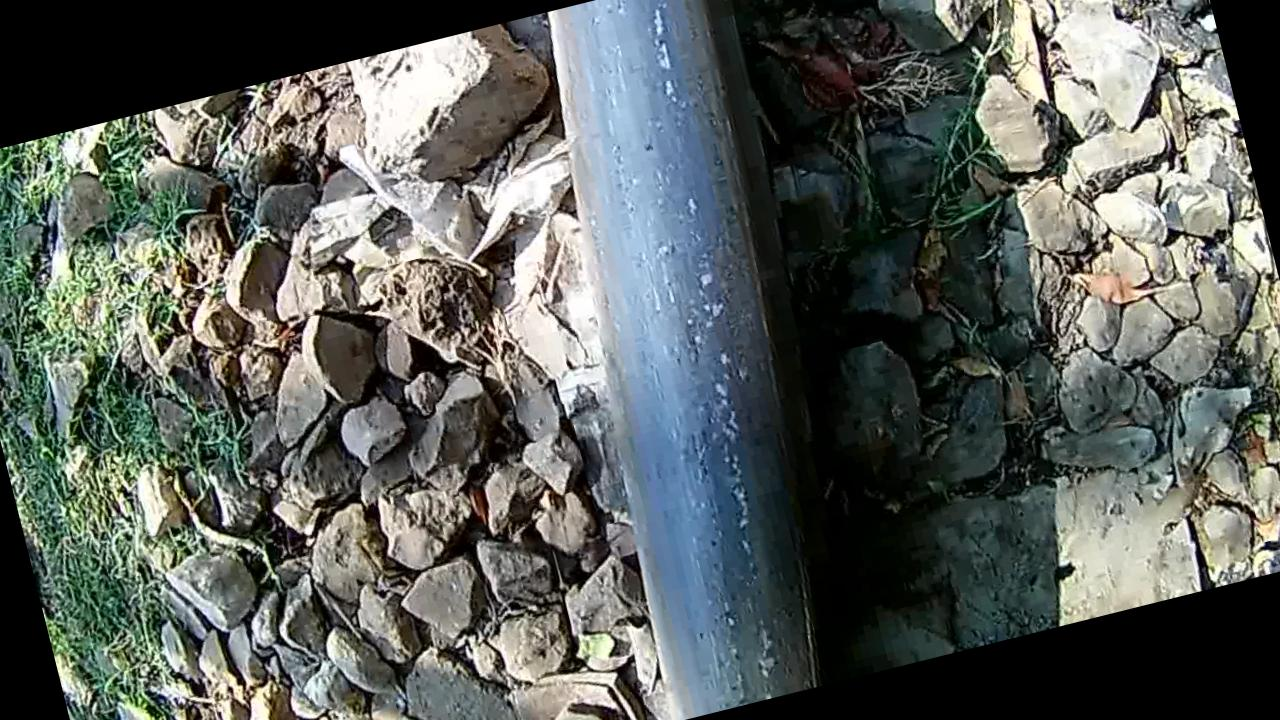clip_missing: (509, 0, 876, 720)
